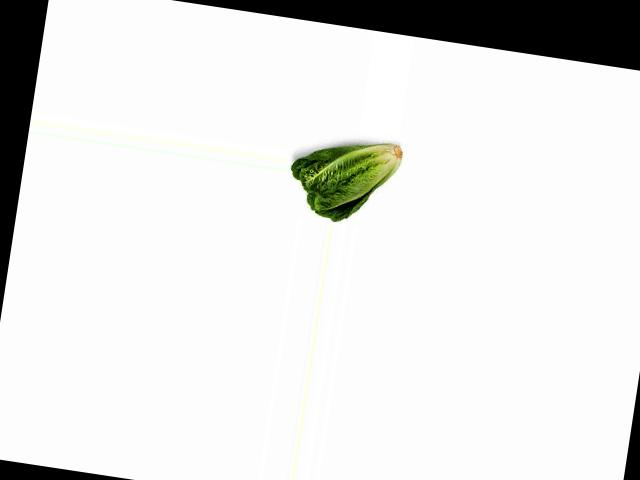lettuce: (285, 128, 406, 229)
